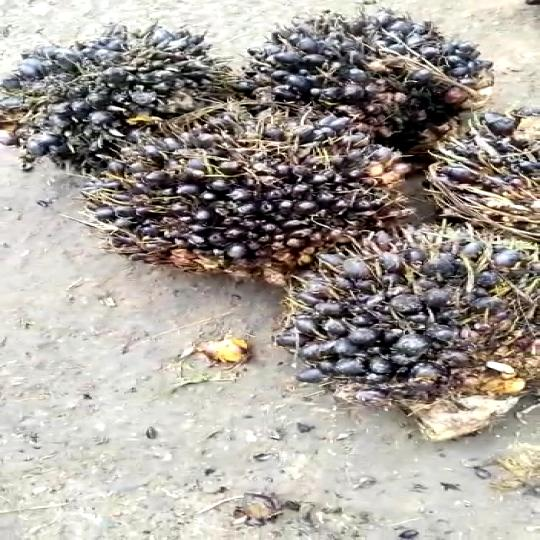mentah: (82, 95, 414, 286), (256, 231, 532, 439), (0, 19, 238, 166), (225, 4, 500, 121), (432, 92, 540, 248)
